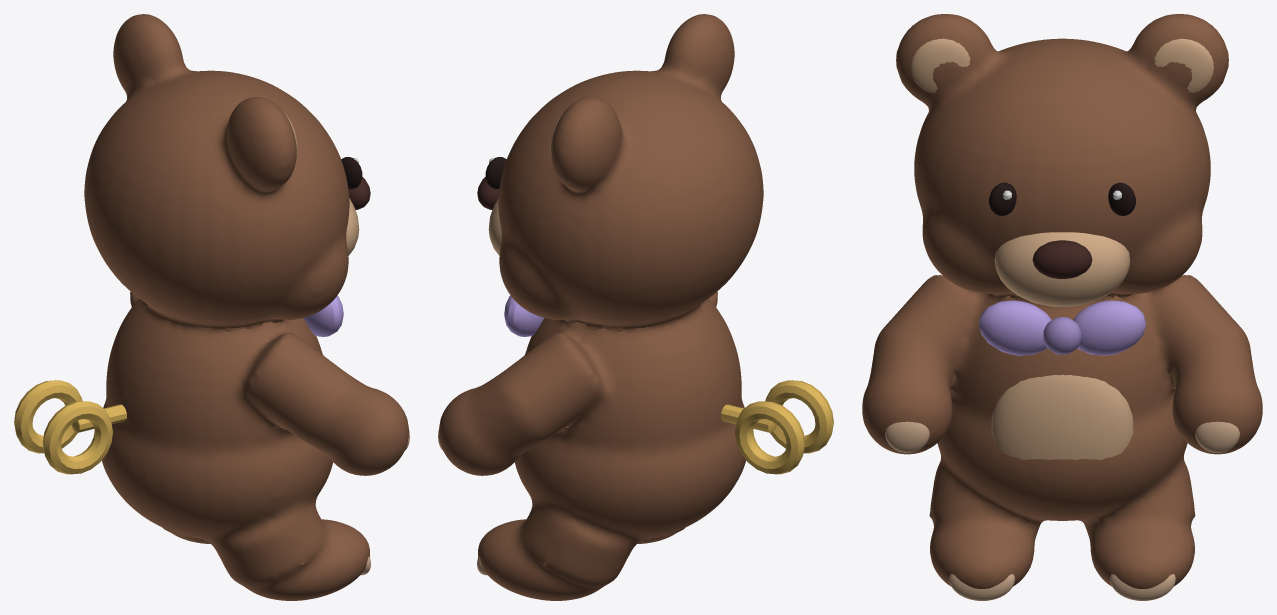
File: W5_WindupBear_lod0.fbx
3 renders of one model, left to right at view 1: azimuth 30°, elevation 25°; view 2: azimuth 150°, elevation 25°; view 3: azimuth 270°, elevation 25°, orthographic. The views are drawn at different scales.
Visible parts, largest first — view 1: W5_WindupBear.001; view 2: W5_WindupBear.001; view 3: W5_WindupBear.001.
Part boxes in pixels (bbox=[...]): W5_WindupBear.001: bbox=[14, 14, 409, 600]; W5_WindupBear.001: bbox=[438, 14, 833, 600]; W5_WindupBear.001: bbox=[862, 14, 1262, 600].
Bounding box in the file's own units: 0.2846 × 0.4205 × 0.2841.
